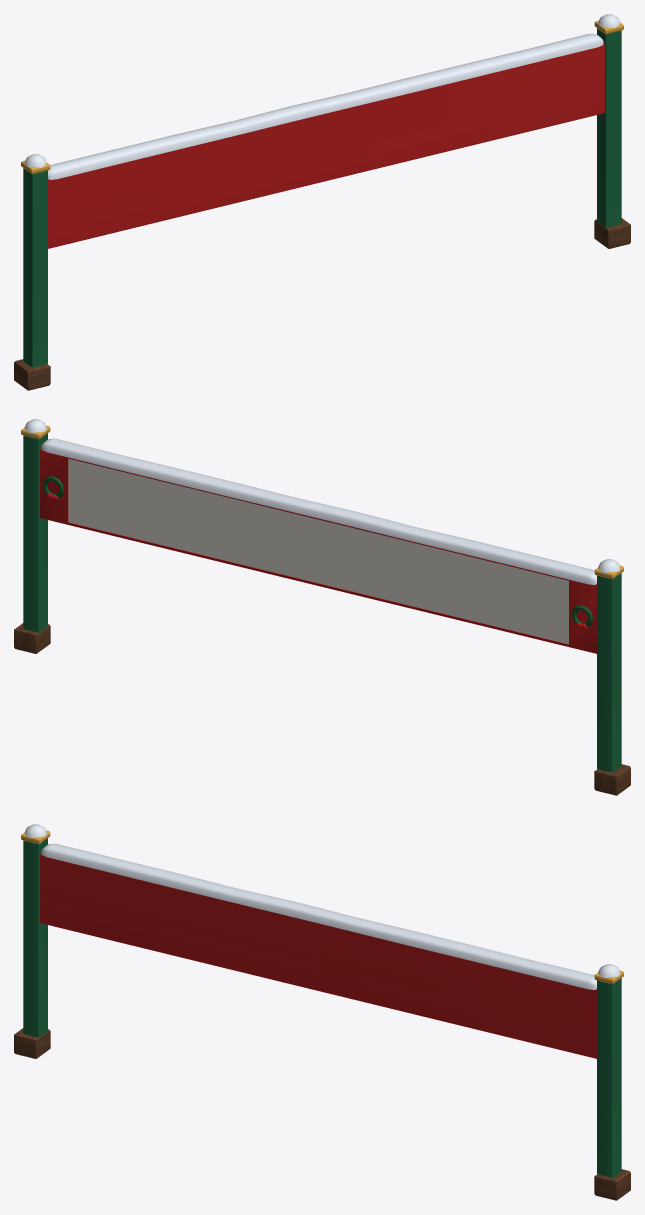
The model's file is SM_Arch_Start.glb.
3 views of the same model, one above another, from view 1: azimuth 30°, elevation 25°; view 2: azimuth 150°, elevation 25°; view 3: azimuth 330°, elevation 25° (orthographic).
Parts seen in each view (by area): view 1: SM_Arch_Start; view 2: SignFace, SM_Arch_Start; view 3: SM_Arch_Start.
Boxes of the visible parts, box(x1,y1,x2,y2) form: SM_Arch_Start: box(14, 14, 630, 390); SignFace: box(68, 458, 568, 644); SM_Arch_Start: box(14, 419, 630, 795); SM_Arch_Start: box(14, 824, 630, 1200).
Size of the model in its own units: 21.7 by 7.8 by 0.9.
Materials: 2 (2 with a texture image).
